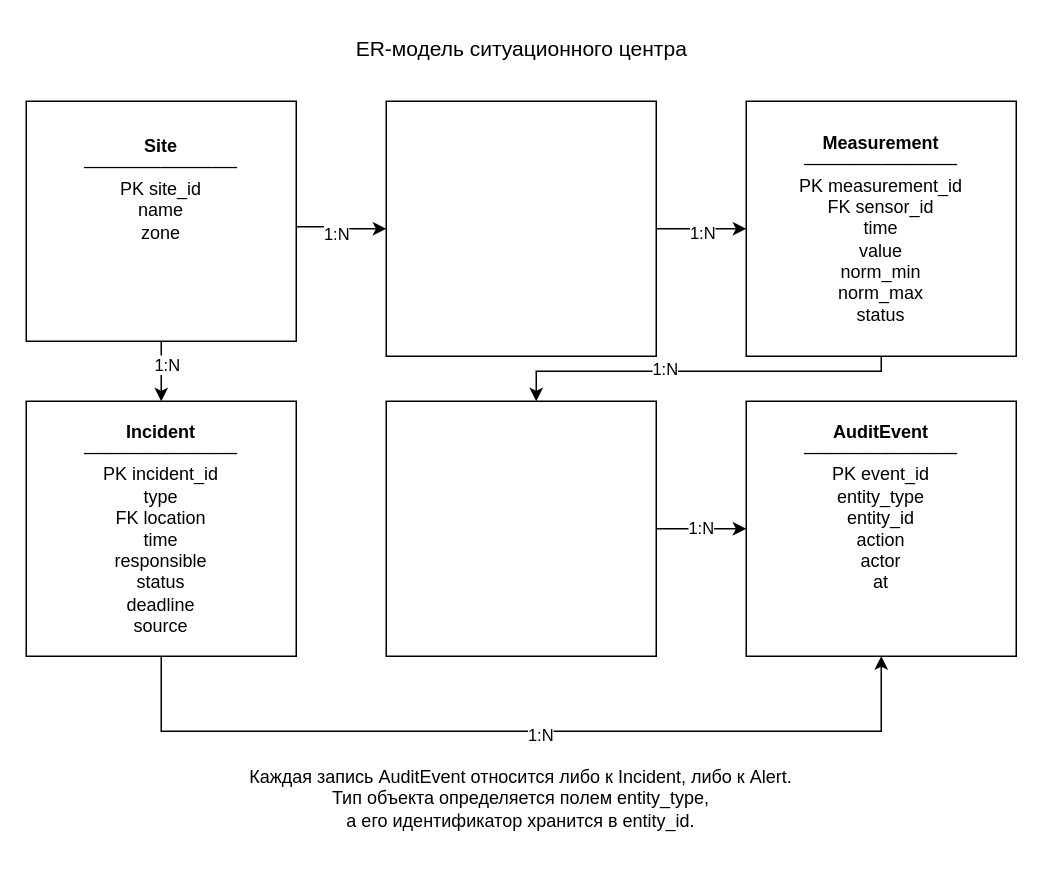
This 1043x876 diagram has some shape labels left out. Here are the shapes that lost their labels. From the top down, the box of each, then its label:
(385, 100, 656, 356): Sensor ──────────── PK sensor_id FK site_id indicator status
(385, 400, 656, 656): Alert ──────────── PK alert_id FK measurement_id severity action at
